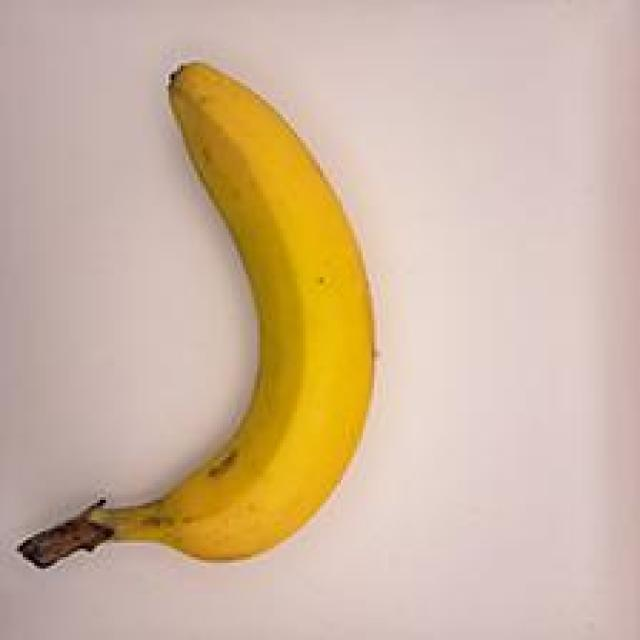ripe: (22, 59, 395, 589)
